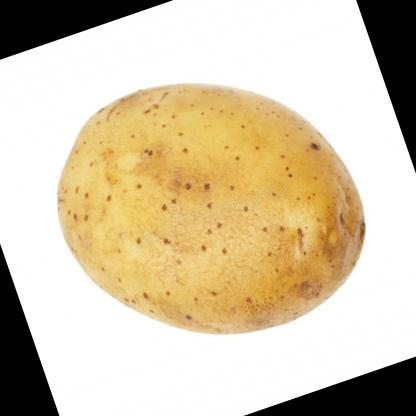potato: (24, 31, 393, 385)
